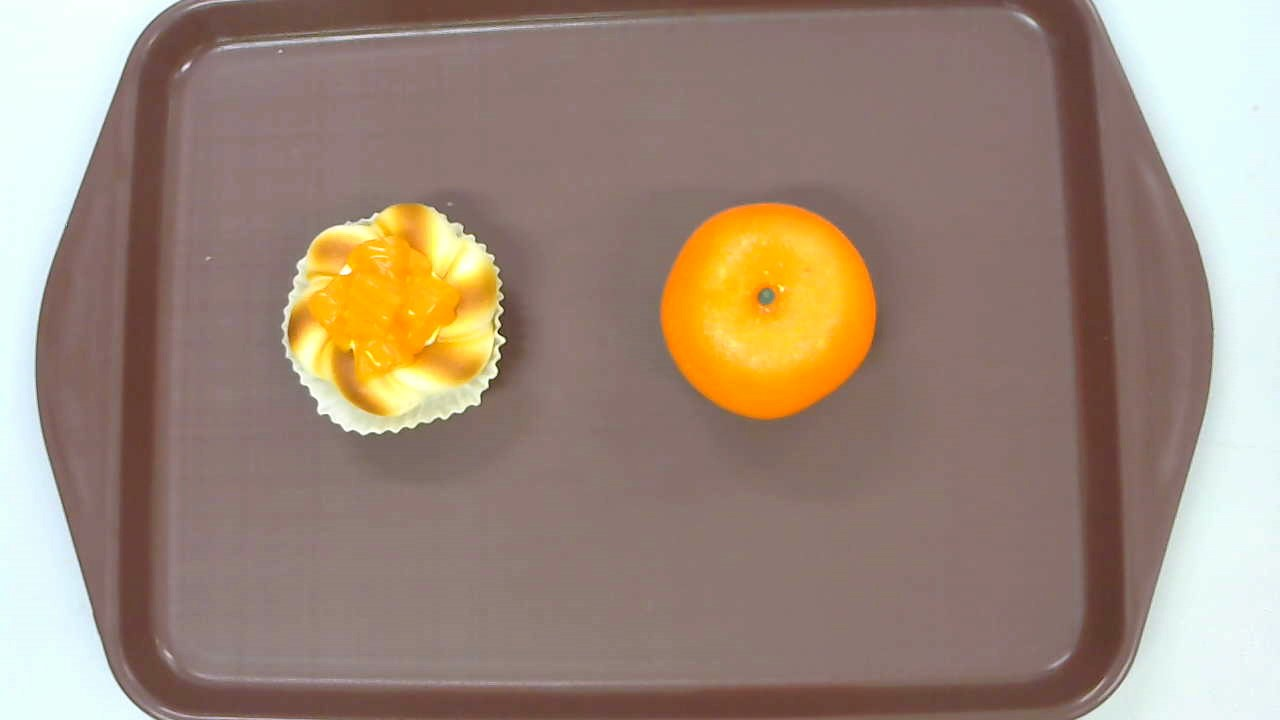mango tart: (280, 202, 507, 436)
orange: (657, 201, 876, 421)
